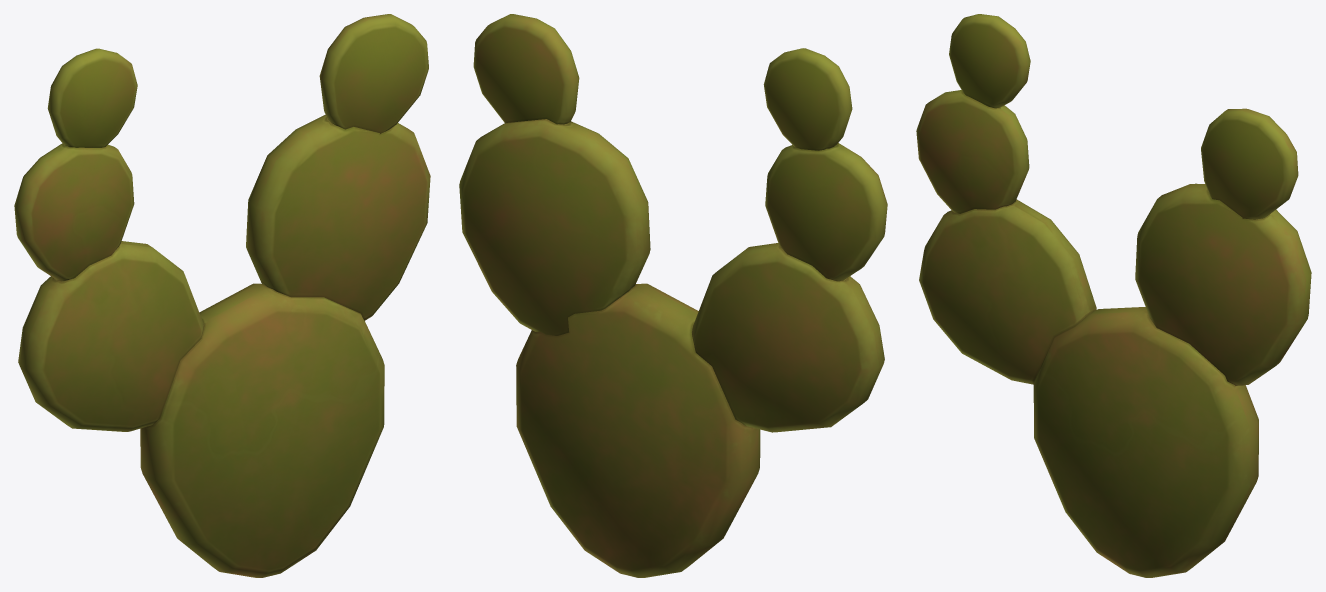
The model's file is cactus_2.fbx.
3 renders of one model, left to right at view 1: azimuth 30°, elevation 25°; view 2: azimuth 150°, elevation 25°; view 3: azimuth 330°, elevation 25°, orthographic. The views are drawn at different scales.
Visible parts, largest first — view 1: Cube.2231; view 2: Cube.2231; view 3: Cube.2231.
Boxes of the visible parts, box(x1,y1,x2,y2) form: Cube.2231: box(14, 14, 430, 577); Cube.2231: box(459, 14, 887, 577); Cube.2231: box(916, 14, 1311, 577).
Bounding box in the file's own units: 2.39 × 3.1 × 0.3114.
